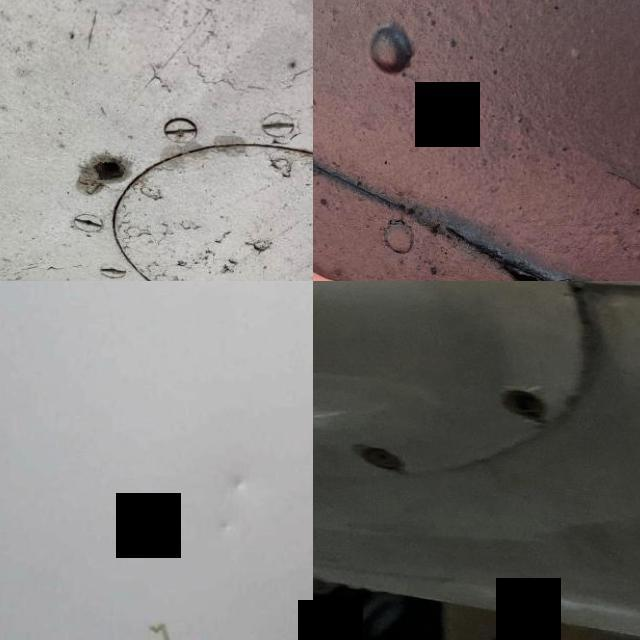Crack: (490, 233, 640, 281), (498, 281, 618, 312)
Dent: (227, 475, 248, 493), (217, 518, 234, 533)
Missing_Fastener: (66, 132, 144, 206), (501, 385, 546, 422)
